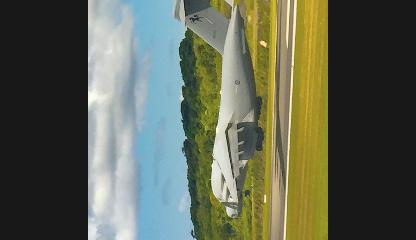C2: (172, 0, 264, 216)
